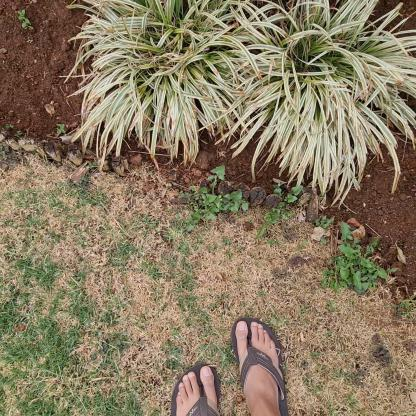Weeds: (321, 221, 400, 293), (178, 165, 248, 232), (255, 202, 292, 241), (273, 182, 304, 203), (315, 215, 336, 246), (17, 8, 31, 29), (57, 123, 65, 135)
